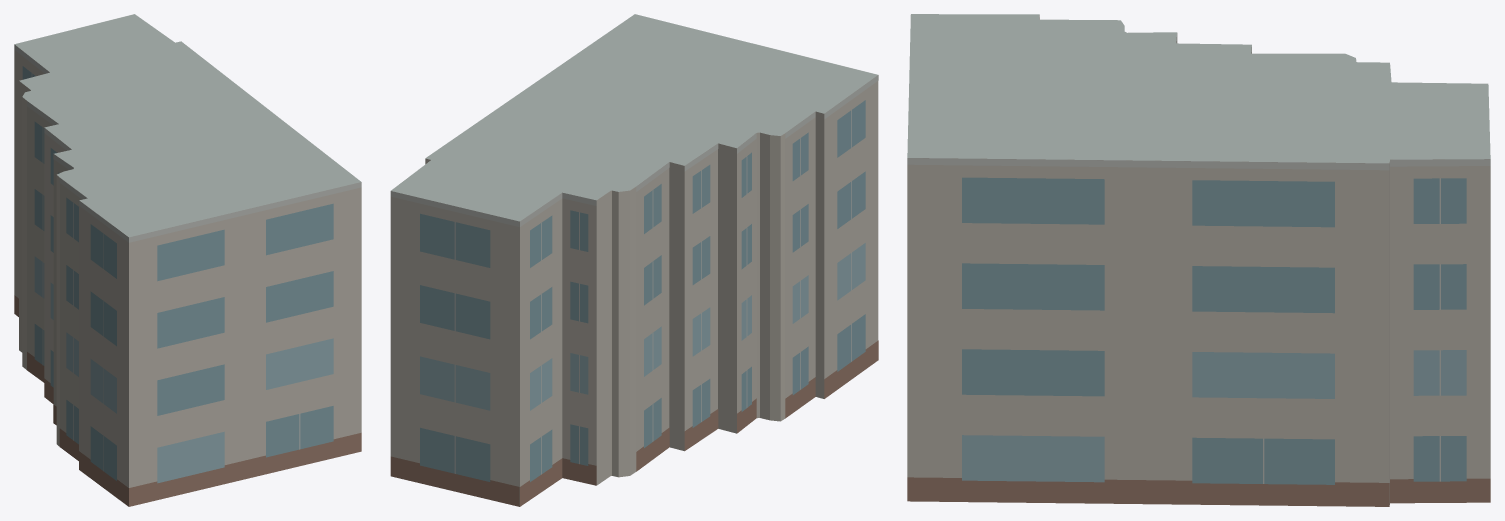
File: survey-upis-32926594.glb
3 views of the same model, side by side, from view 1: azimuth 30°, elevation 25°; view 2: azimuth 150°, elevation 25°; view 3: azimuth 270°, elevation 25° (orthographic). The views are drawn at different scales.
Visible parts, largest first — view 1: survey-upis-32926594.tmp; view 2: survey-upis-32926594.tmp; view 3: survey-upis-32926594.tmp.
Boxes of the visible parts, <box> form: survey-upis-32926594.tmp: <box>14,14,361,506</box>; survey-upis-32926594.tmp: <box>390,14,878,506</box>; survey-upis-32926594.tmp: <box>907,14,1490,506</box>.
Bounding box in the file's own units: 11.39 × 12.2 × 18.79.
